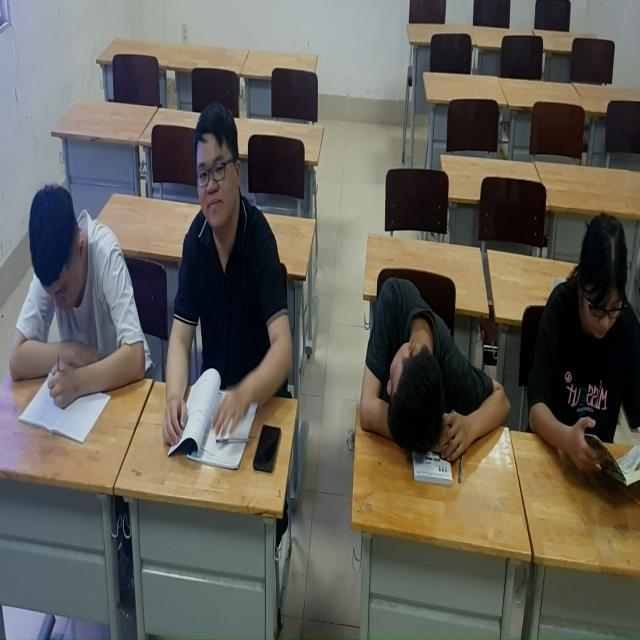read: (169, 85, 304, 462), (6, 157, 143, 441), (514, 204, 640, 502)
sleep: (343, 282, 500, 488)
